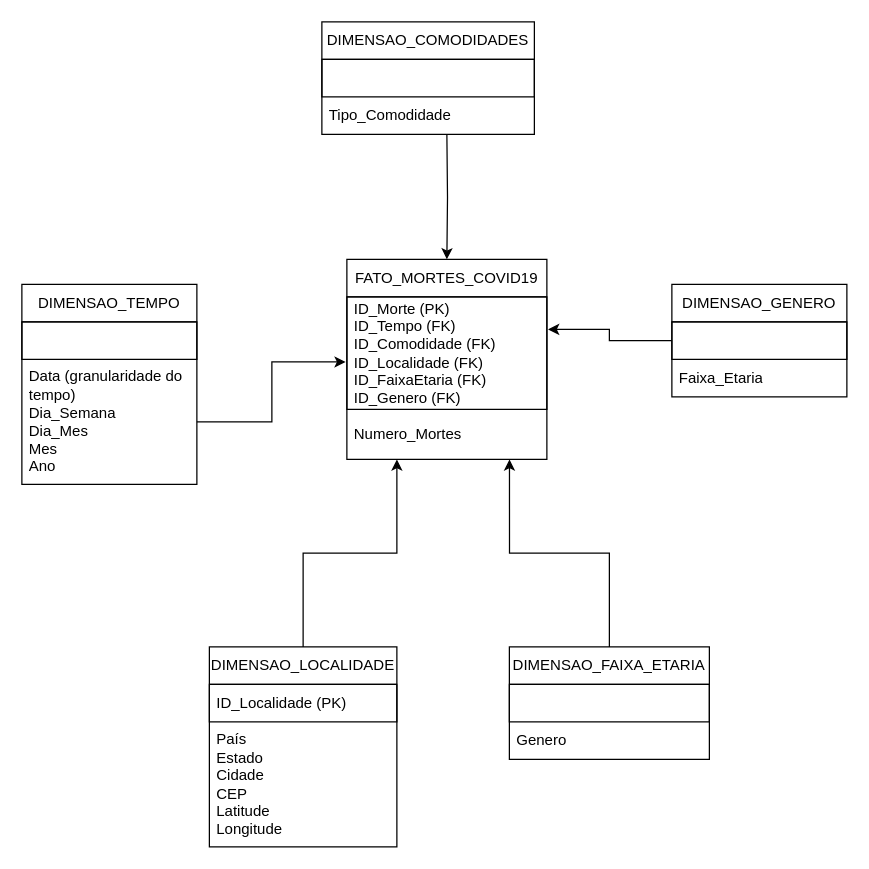
Image size: 869x869. Some labels were removed from this diagram. Here are the shapes that lost their labels. From the top down, the centre of each, then its label:
(427,77): ID_Comodidade (PK)
(109,340): ID_Tempo (PK)
(759,340): ID_Genero (FK)
(608,702): ID_FaixaEtaria (FK)
